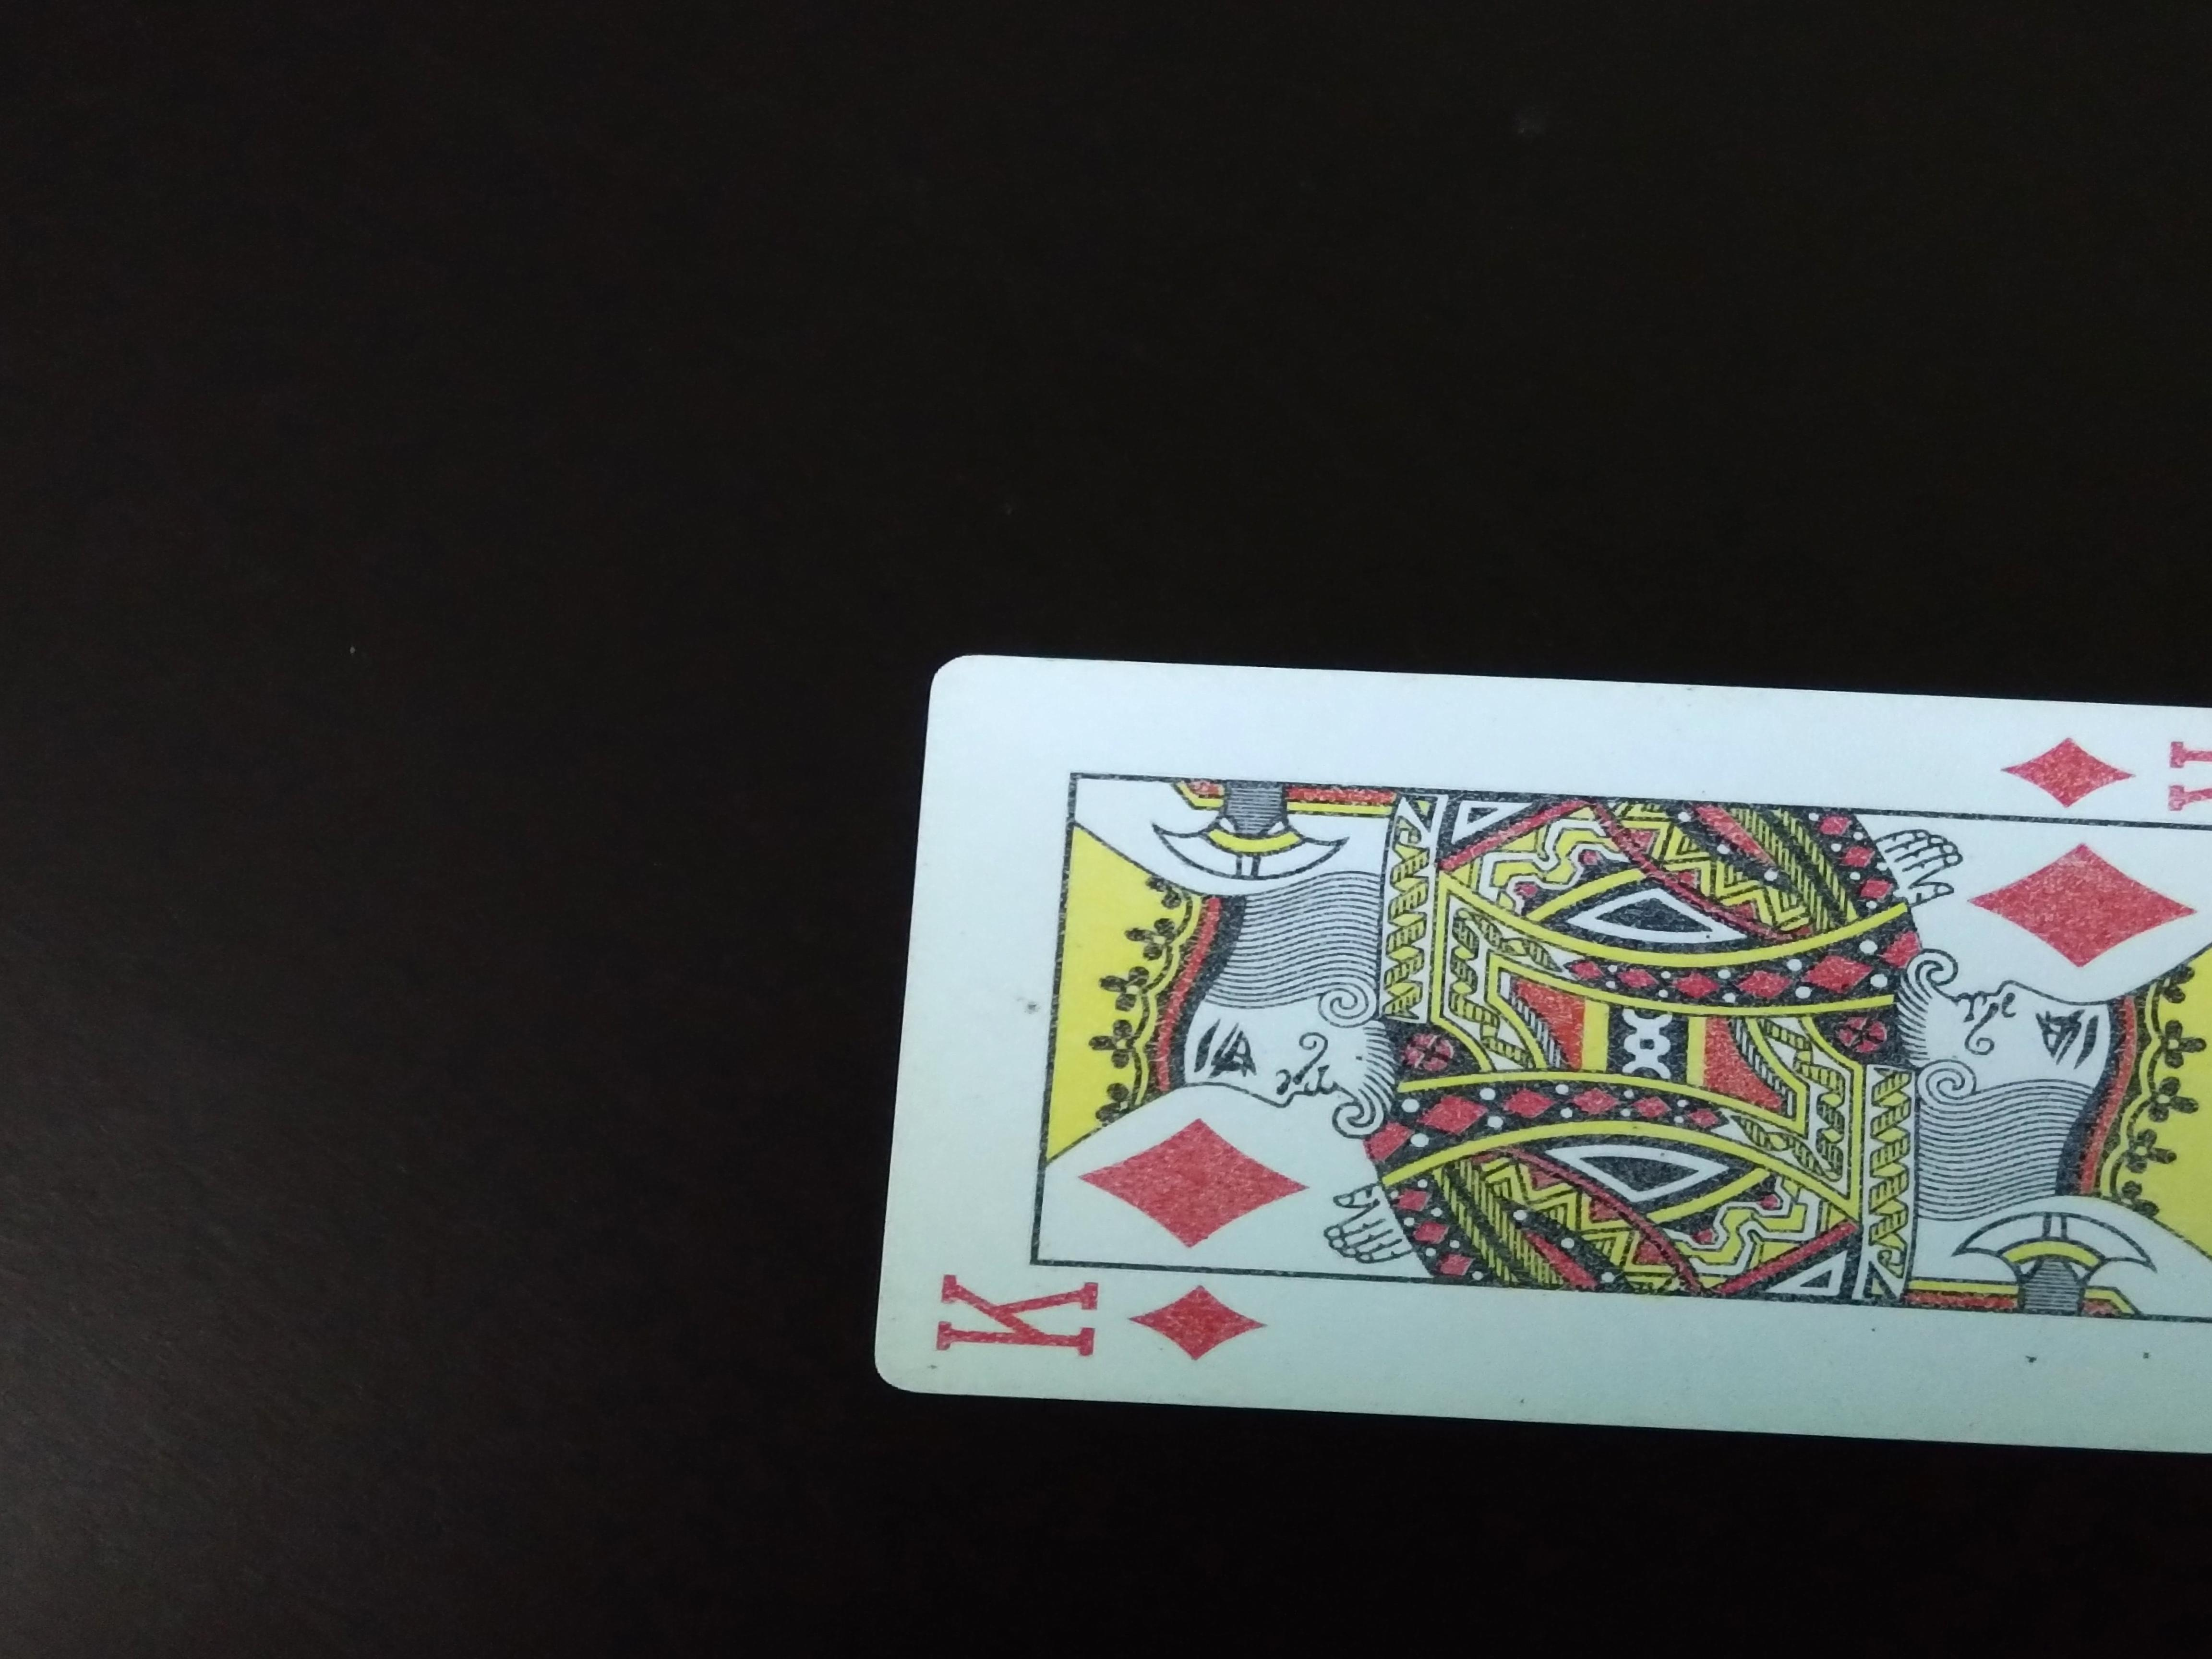KD: (930, 1260, 1252, 1391)
